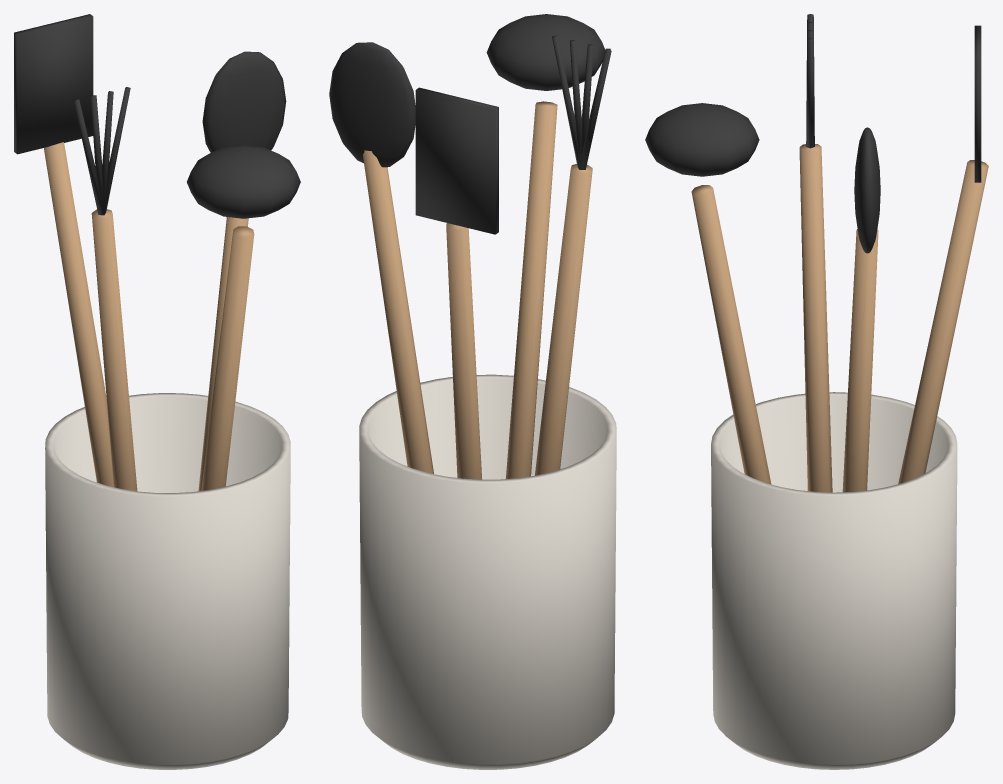
File: decor-utensilholder.glb
The picture shows the model from 3 angles, left to right: view 1: azimuth 30°, elevation 25°; view 2: azimuth 150°, elevation 25°; view 3: azimuth 270°, elevation 25°; orthographic projection. The views are drawn at different scales.
Parts seen in each view (by area): view 1: UtensilHolder__Crock, UtensilHolder__Heads, UtensilHolder__Handles; view 2: UtensilHolder__Crock, UtensilHolder__Handles, UtensilHolder__Heads; view 3: UtensilHolder__Crock, UtensilHolder__Handles, UtensilHolder__Heads.
Boxes of the visible parts, <box> form: UtensilHolder__Crock: <box>45,393,290,769</box>; UtensilHolder__Heads: <box>14,14,300,218</box>; UtensilHolder__Handles: <box>44,142,254,491</box>; UtensilHolder__Crock: <box>359,374,616,769</box>; UtensilHolder__Handles: <box>363,101,592,479</box>; UtensilHolder__Heads: <box>329,14,611,234</box>; UtensilHolder__Crock: <box>711,392,957,769</box>; UtensilHolder__Handles: <box>691,144,988,492</box>; UtensilHolder__Heads: <box>645,14,981,253</box>.
Size of the model in its own units: 12.69 by 33.03 by 15.62.
